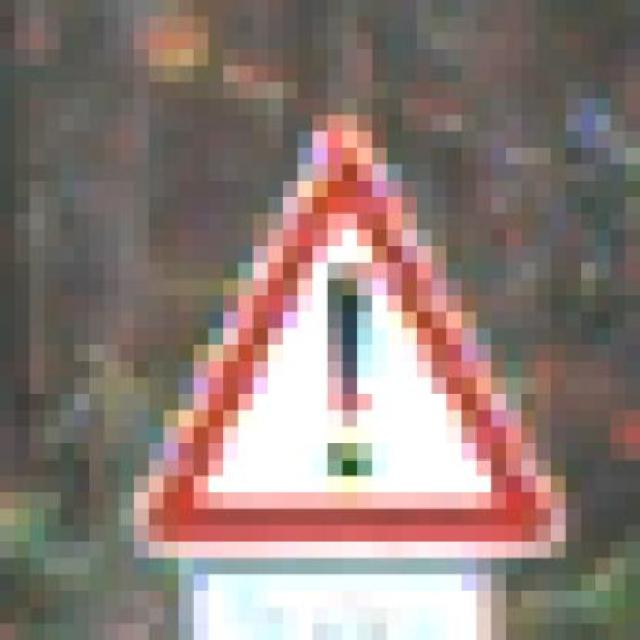Attention Please-: (104, 99, 596, 558)
